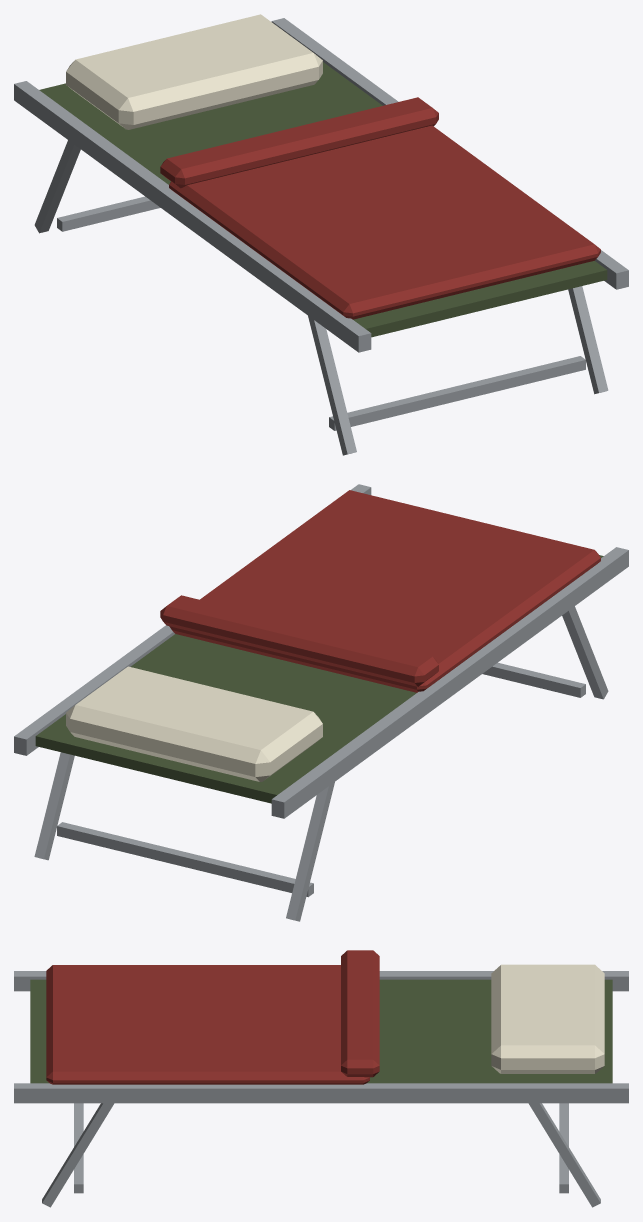
Rendered from room.camp-bed.glb.
3 views of the same model, one above another, from view 1: azimuth 30°, elevation 25°; view 2: azimuth 150°, elevation 25°; view 3: azimuth 270°, elevation 25° (orthographic). The views are drawn at different scales.
Visible parts, largest first — view 1: blanket, pillow, canvas, rail-1, blanket-fold, stretcher1, rail1, leg-11a, leg11a, stretcher-1, leg-1-1a; view 2: blanket, canvas, pillow, rail-1, blanket-fold, stretcher-1, rail1, leg-1-1a, leg1-1a, stretcher1, leg-11a; view 3: blanket, canvas, rail1, pillow, blanket-fold, rail-1, leg1-1a, leg11a, stretcher-1, stretcher1.
Boxes of the visible parts, bbox=[...] form: blanket: bbox=[169, 125, 600, 319]; pillow: bbox=[66, 14, 322, 129]; canvas: bbox=[39, 62, 607, 337]; rail-1: bbox=[14, 81, 371, 352]; blanket-fold: bbox=[160, 97, 438, 188]; stretcher1: bbox=[329, 356, 585, 430]; rail1: bbox=[271, 18, 628, 289]; leg-11a: bbox=[308, 316, 356, 455]; leg11a: bbox=[568, 286, 608, 394]; stretcher-1: bbox=[57, 196, 160, 231]; leg-1-1a: bbox=[34, 140, 80, 233]; blanket: bbox=[169, 490, 600, 692]; canvas: bbox=[35, 555, 603, 803]; pillow: bbox=[66, 666, 322, 781]; rail-1: bbox=[271, 547, 628, 818]; blanket-fold: bbox=[160, 595, 438, 686]; stretcher-1: bbox=[57, 822, 313, 897]; rail1: bbox=[14, 484, 371, 755]; leg-1-1a: bbox=[286, 782, 334, 921]; leg1-1a: bbox=[34, 752, 74, 860]; stretcher1: bbox=[482, 662, 585, 697]; leg-11a: bbox=[562, 606, 608, 699]; blanket: bbox=[46, 965, 369, 1084]; canvas: bbox=[30, 979, 612, 1083]; rail1: bbox=[14, 1083, 628, 1103]; pillow: bbox=[491, 964, 604, 1073]; blanket-fold: bbox=[341, 950, 379, 1077]; rail-1: bbox=[14, 971, 628, 991]; leg1-1a: bbox=[528, 1103, 600, 1207]; leg11a: bbox=[42, 1103, 114, 1207]; stretcher-1: bbox=[559, 1103, 568, 1193]; stretcher1: bbox=[74, 1103, 83, 1193].
Size of the model in its own units: 0.86 by 0.4973 by 1.9.
